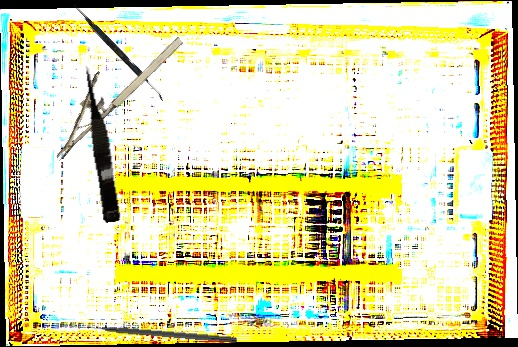Hook Surgical: (75, 321, 238, 345)
Micro Scissor: (79, 63, 125, 224)
Needle Holder: (32, 16, 187, 161)
Spatula Surgical: (70, 4, 168, 101)
